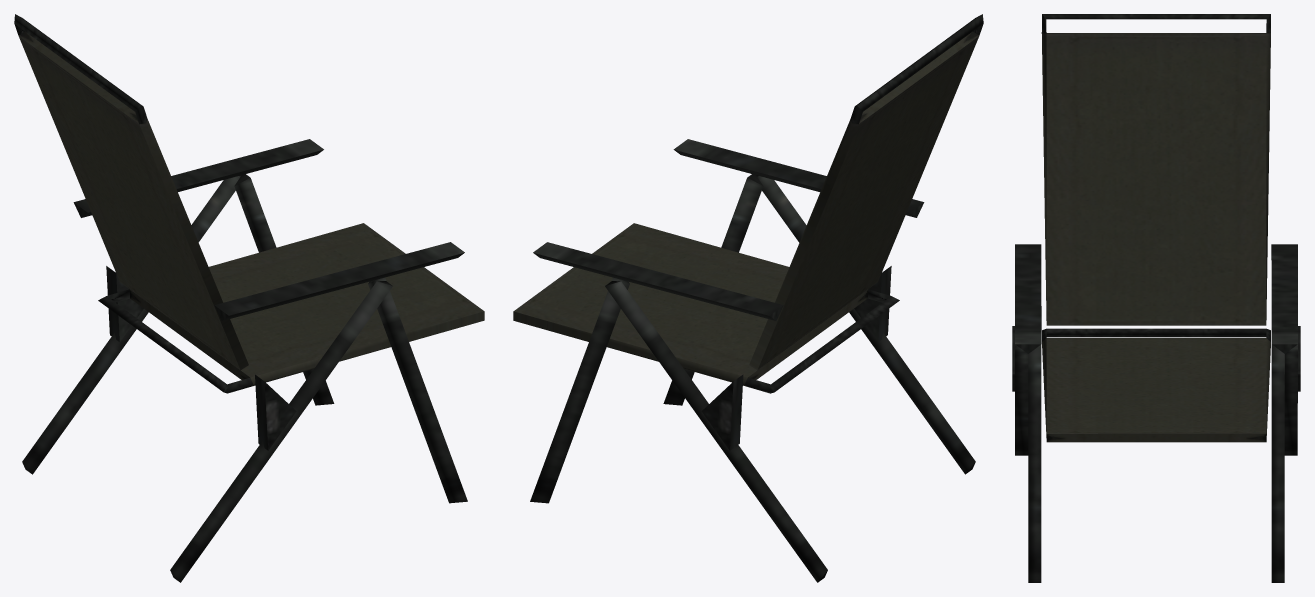
File: p_us_patio_chair_lod2.glb
3 renders of one model, left to right at view 1: azimuth 30°, elevation 25°; view 2: azimuth 150°, elevation 25°; view 3: azimuth 270°, elevation 25°, orthographic. The views are drawn at different scales.
Visible parts, largest first — view 1: surf1, surf0; view 2: surf1, surf0; view 3: surf1, surf0.
Part boxes in pixels (left/top/right/bottom): surf1: left=18, top=31, right=484, bottom=386; surf0: left=14, top=14, right=467, bottom=582; surf1: left=513, top=31, right=979, bottom=386; surf0: left=530, top=14, right=983, bottom=582; surf1: left=1041, top=33, right=1270, bottom=442; surf0: left=1012, top=14, right=1300, bottom=582.
Bounding box in the file's own units: 39.16 × 50.54 × 30.68.
